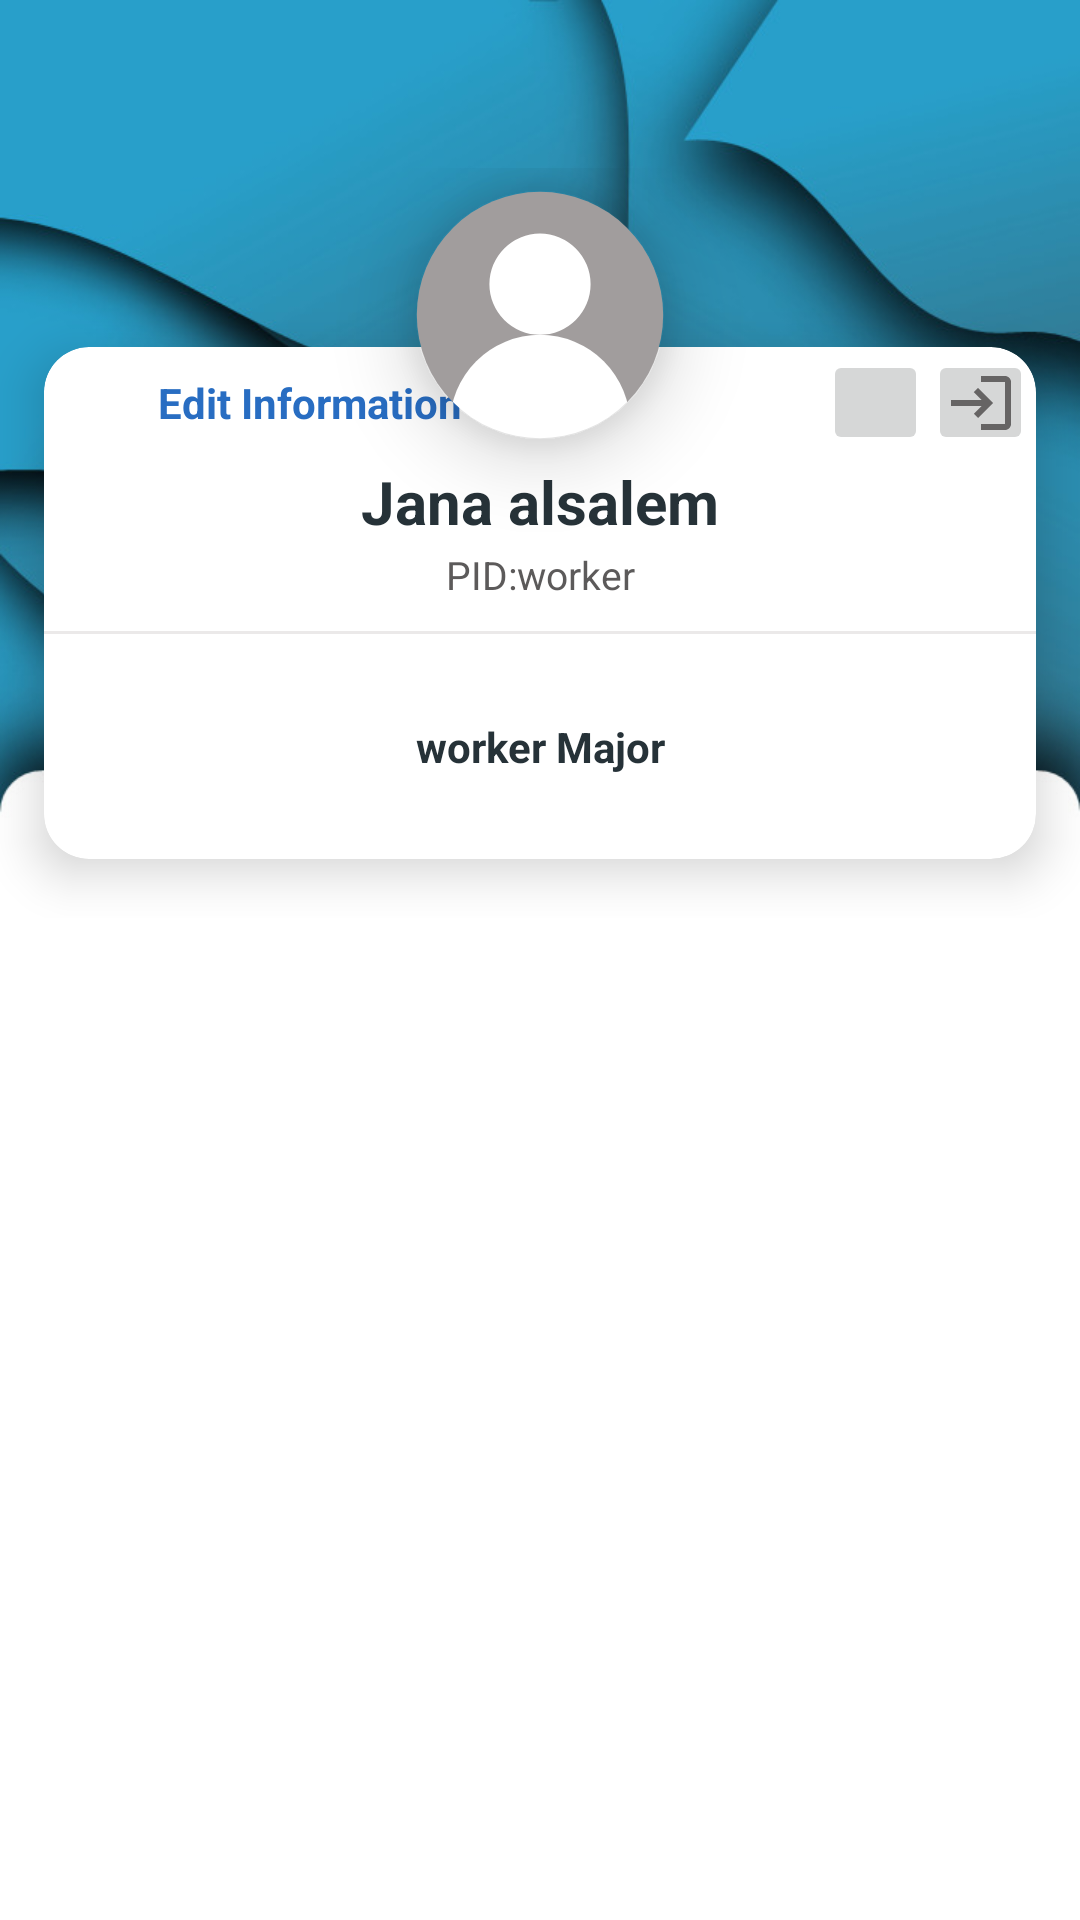

Icons on this 1080 x 1920 Android screen, each with the point to tap as point (x, y):
abstract user: point (540, 315)
login: point (980, 402)
